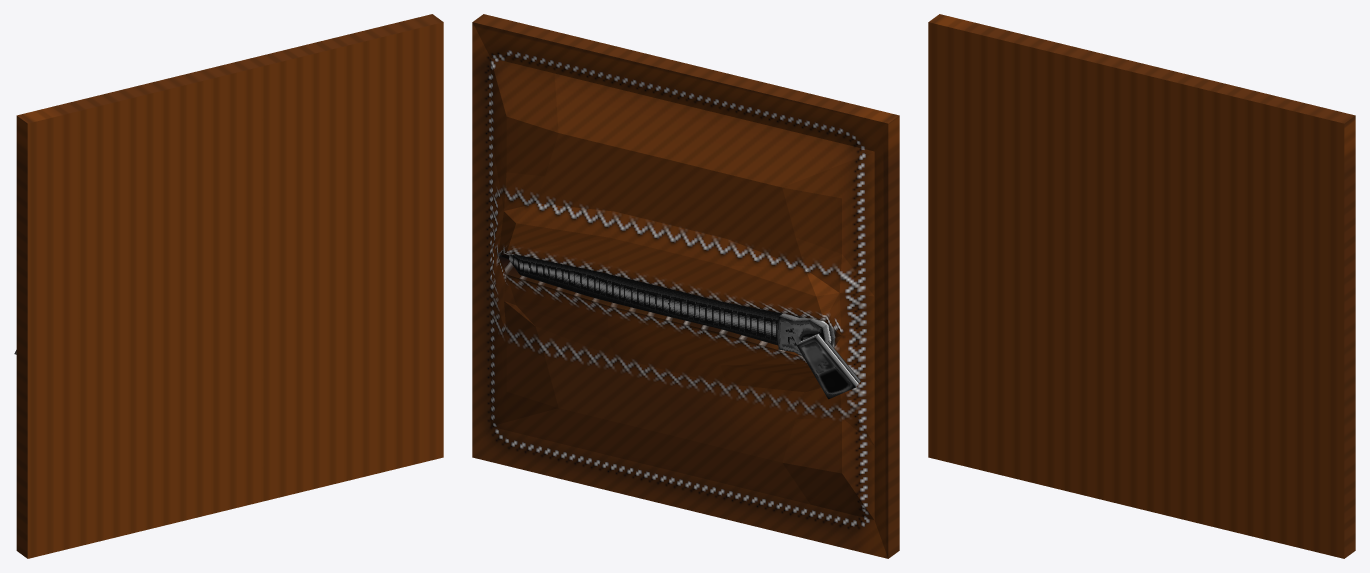
The model's file is zipper.obj.
The picture shows the model from 3 angles, left to right: view 1: azimuth 30°, elevation 25°; view 2: azimuth 150°, elevation 25°; view 3: azimuth 330°, elevation 25°; orthographic projection.
Bounding box in the file's own units: 2 × 2 × 0.2875.
